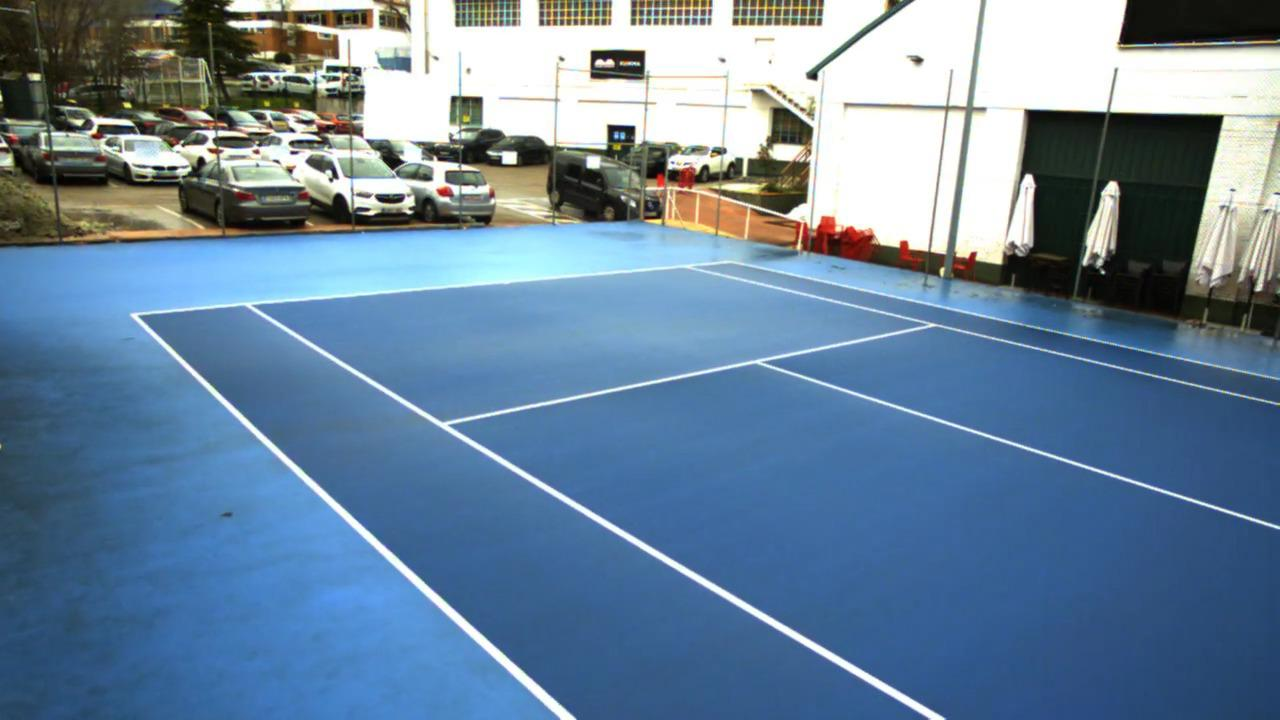cancha_tenis: (248, 264, 1280, 720)
point_f1: (234, 293, 263, 317)
point_f2: (674, 254, 701, 277)
point_fc1: (499, 277, 515, 288)
point_i1: (429, 410, 465, 441)
point_i2: (917, 314, 944, 334)
point_ic1: (747, 350, 774, 373)
